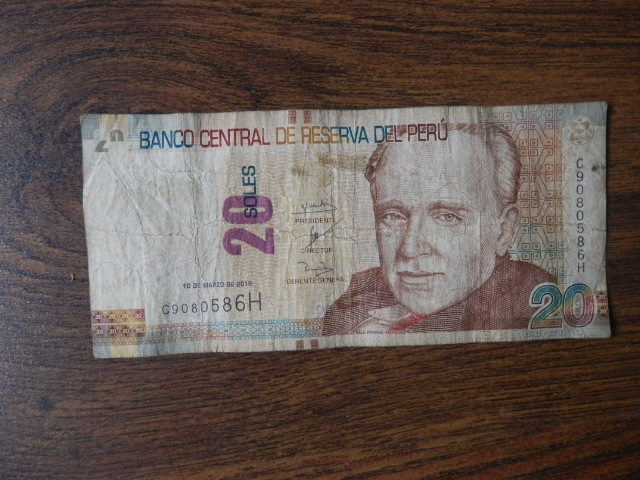B20: (74, 111, 611, 340)
